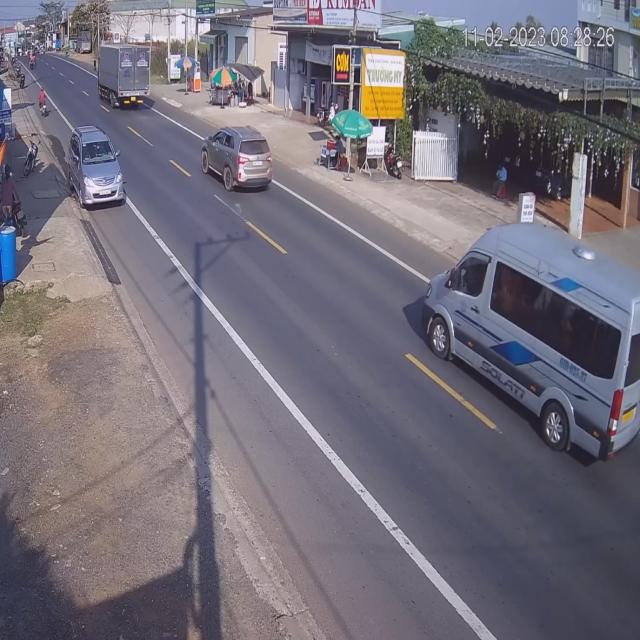car: (202, 128, 274, 197), (68, 126, 126, 210)
motorbike: (38, 88, 48, 117)
truck: (418, 210, 639, 470), (99, 44, 152, 114)
